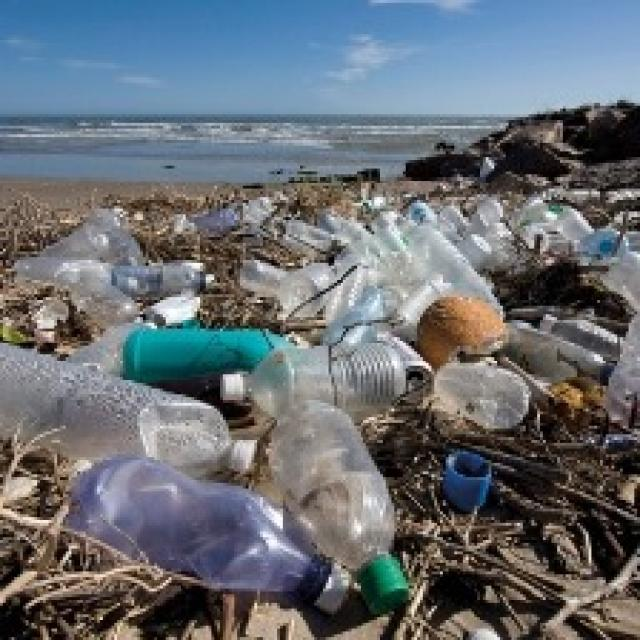heap: (38, 230, 392, 561)
plastic_bottle: (66, 451, 366, 623), (1, 334, 272, 499), (262, 406, 446, 626), (111, 319, 302, 393), (263, 340, 423, 410), (68, 255, 223, 298)
